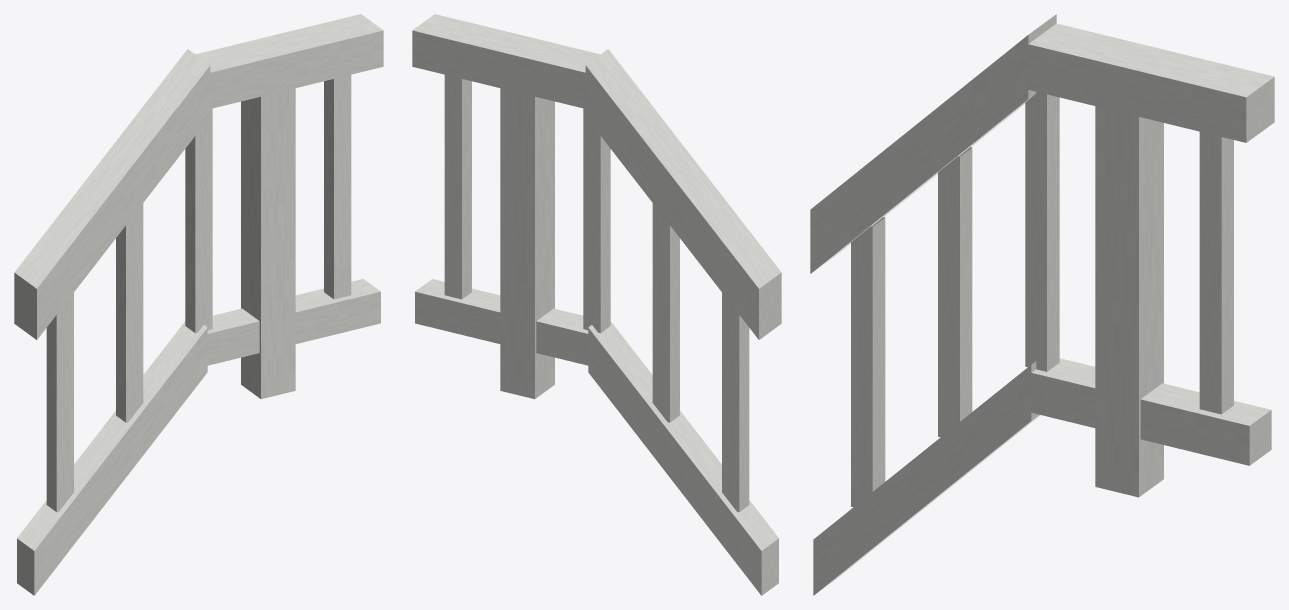
Rendered from top_pos.obj.
3 views of the same model, side by side, from view 1: azimuth 30°, elevation 25°; view 2: azimuth 150°, elevation 25°; view 3: azimuth 330°, elevation 25° (orthographic). The views are drawn at different scales.
Visible parts, largest first — view 1: railing_picket_white_top_pos; view 2: railing_picket_white_top_pos; view 3: railing_picket_white_top_pos.
Boxes of the visible parts, x1,y1,x2,y2 form: railing_picket_white_top_pos: (14, 14, 383, 595); railing_picket_white_top_pos: (412, 14, 781, 595); railing_picket_white_top_pos: (810, 14, 1274, 595).
Size of the model in its own units: 1 by 1.35 by 0.1125.
